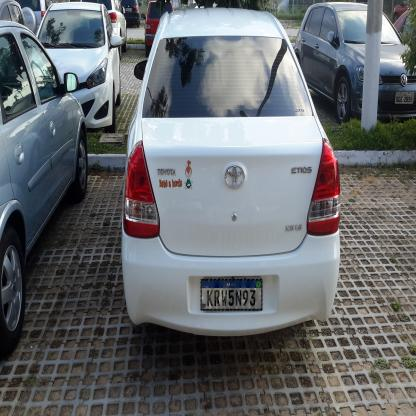PlacaM: (200, 279, 262, 311)
